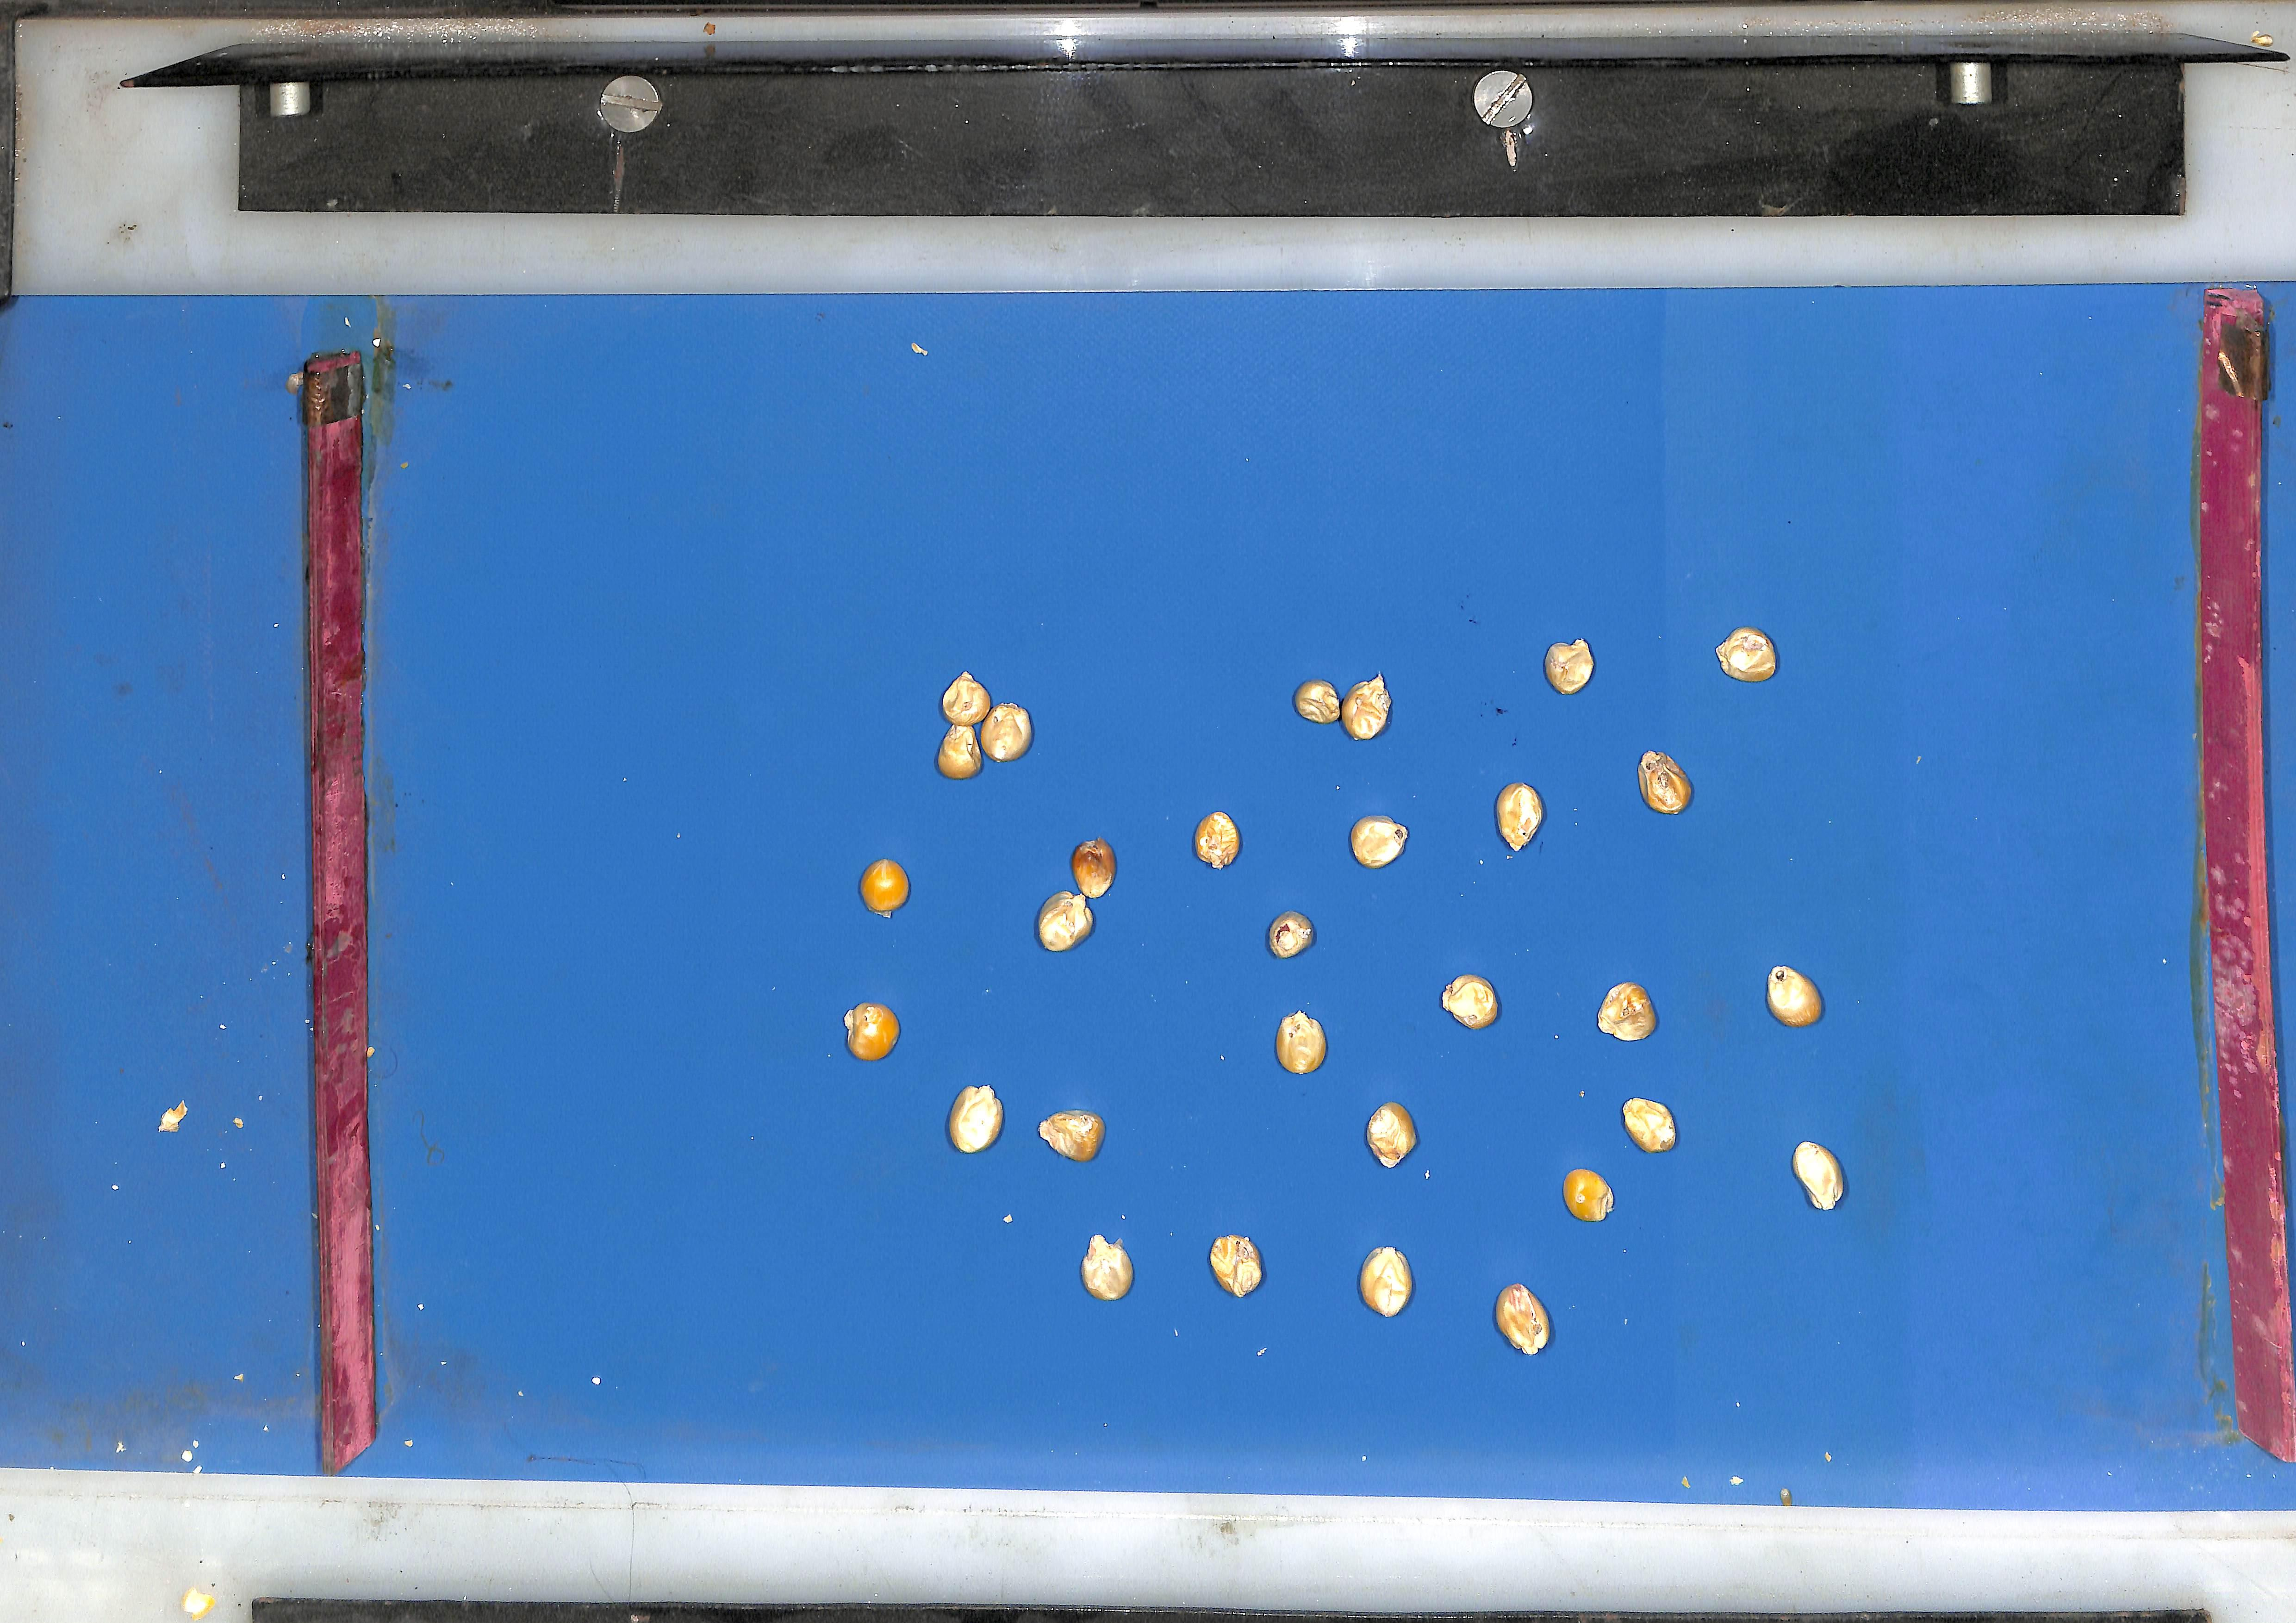Wv: (1496, 1285, 1552, 1356), (1360, 1248, 1414, 1318), (947, 1086, 1003, 1154), (1795, 1142, 1848, 1211), (1081, 1236, 1133, 1303), (1769, 966, 1826, 1028), (1600, 982, 1659, 1041), (1037, 891, 1094, 951), (1718, 626, 1780, 680), (1039, 1112, 1105, 1163), (1342, 673, 1393, 739), (1367, 1102, 1418, 1168), (1497, 782, 1546, 850), (1641, 751, 1694, 813), (1276, 1012, 1328, 1074), (843, 1003, 899, 1061), (1210, 1237, 1263, 1298), (979, 701, 1033, 761), (1443, 974, 1500, 1030), (1350, 816, 1409, 867), (1624, 1099, 1679, 1153), (859, 858, 909, 915), (940, 670, 992, 724), (1071, 837, 1117, 899), (1547, 637, 1596, 693), (1194, 811, 1241, 869), (1565, 1170, 1616, 1223), (936, 724, 981, 779), (1269, 912, 1316, 958), (1295, 678, 1343, 723)
